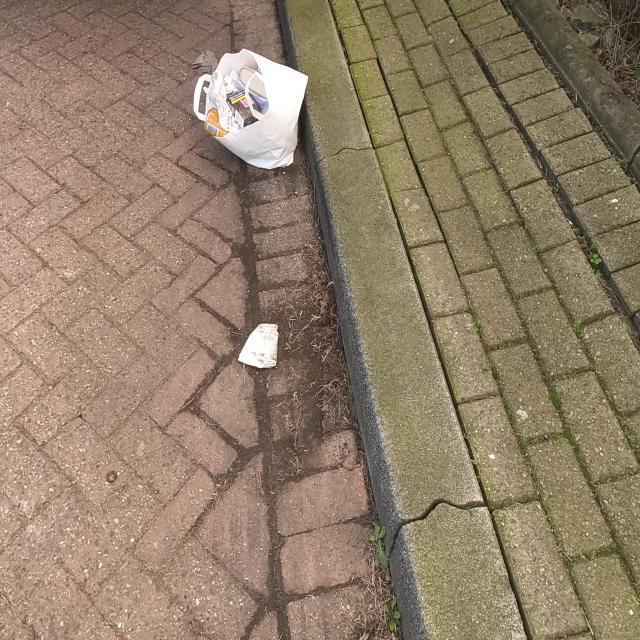Can-Metal: (203, 106, 230, 137)
Cup: (238, 323, 280, 369)
Paper: (194, 47, 308, 170), (226, 89, 262, 130), (191, 49, 218, 74)
